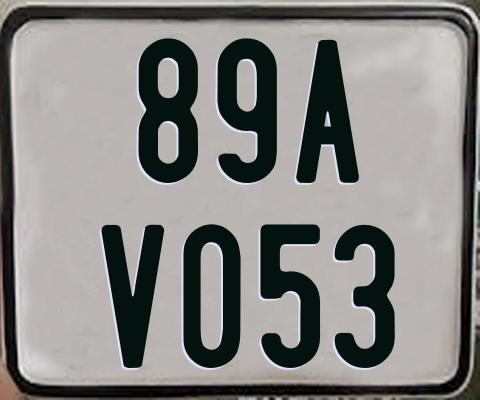0: (180, 221, 242, 369)
3: (335, 222, 398, 370)
5: (259, 221, 321, 367)
8: (138, 35, 200, 183)
9: (214, 36, 274, 186)
A: (293, 37, 361, 186)
V: (101, 223, 169, 370)
